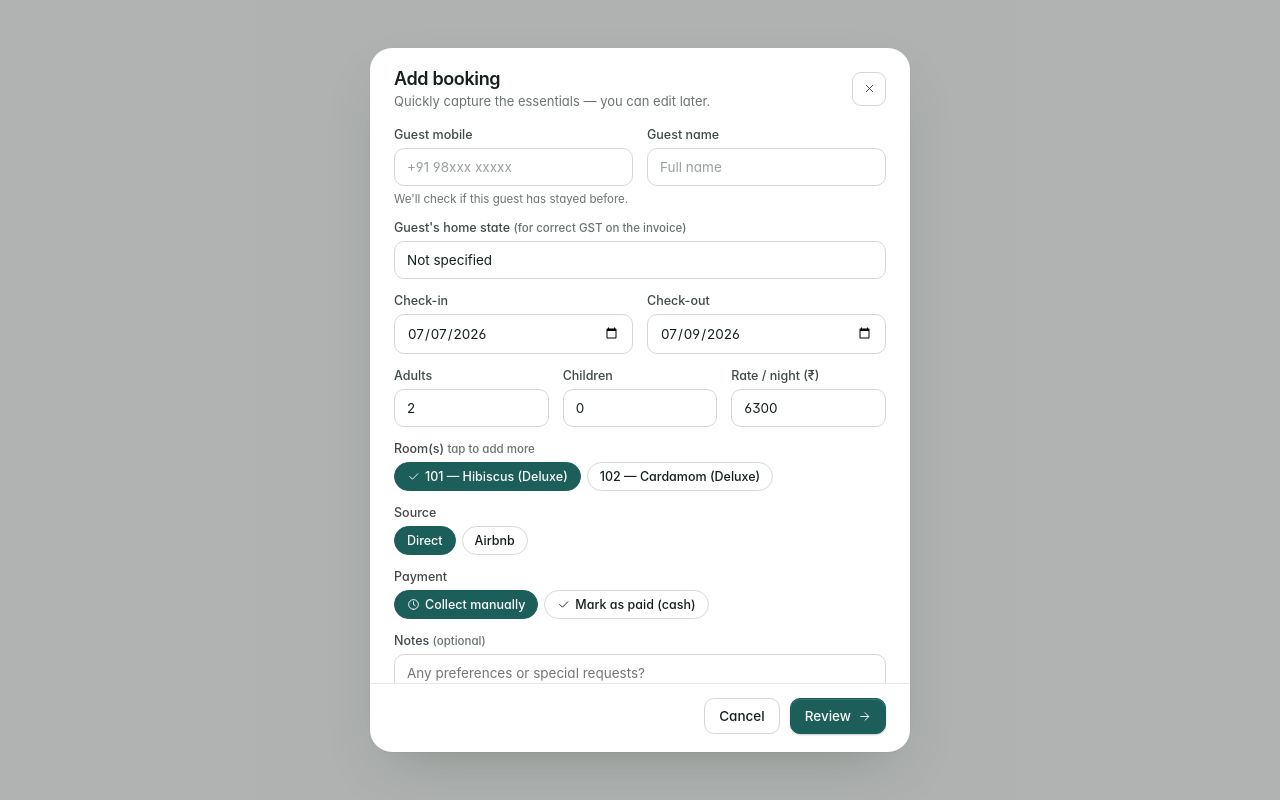
QuickAdd › requires guest name and mobile before review
This screenshot has width=1280, height=800.
Click the button "Review" at (838, 716), box [790,698,886,734]
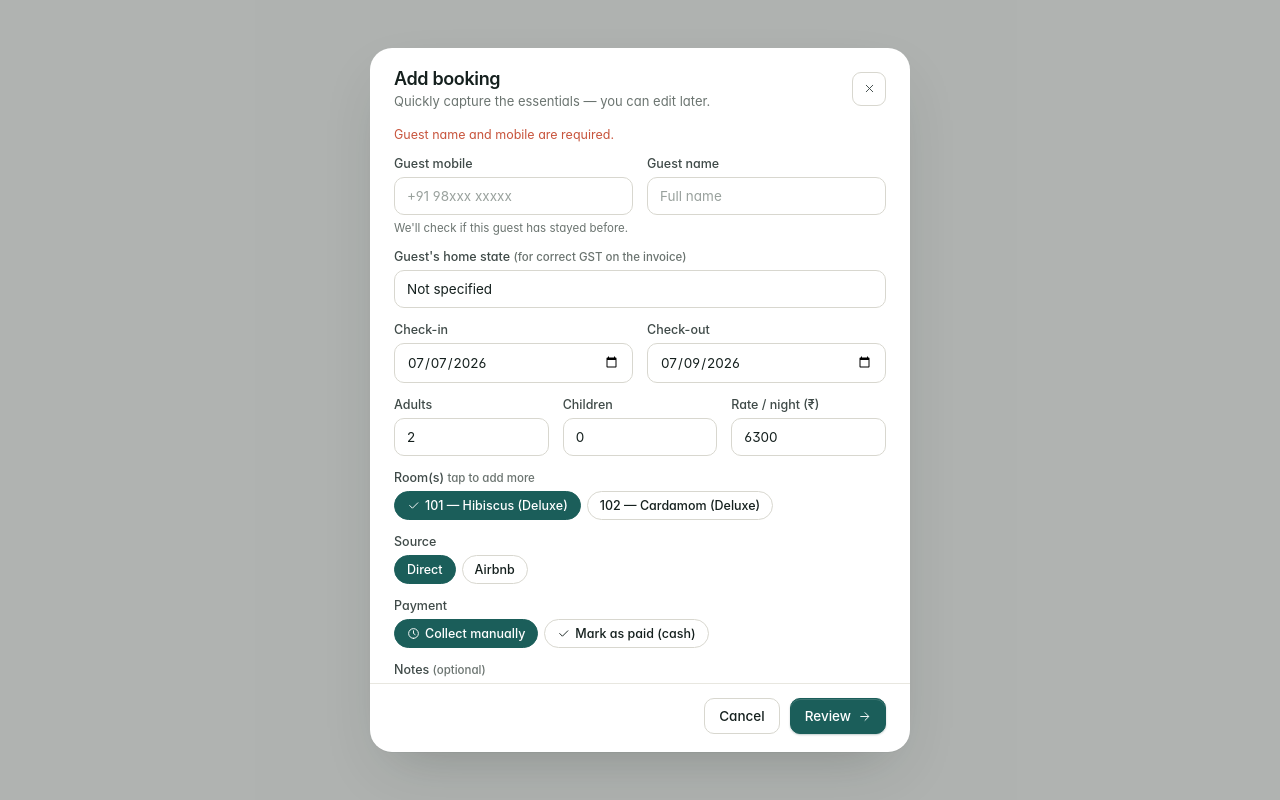
Expected: the text "Guest name and mobile are required." is shown, [394,127,614,142]
